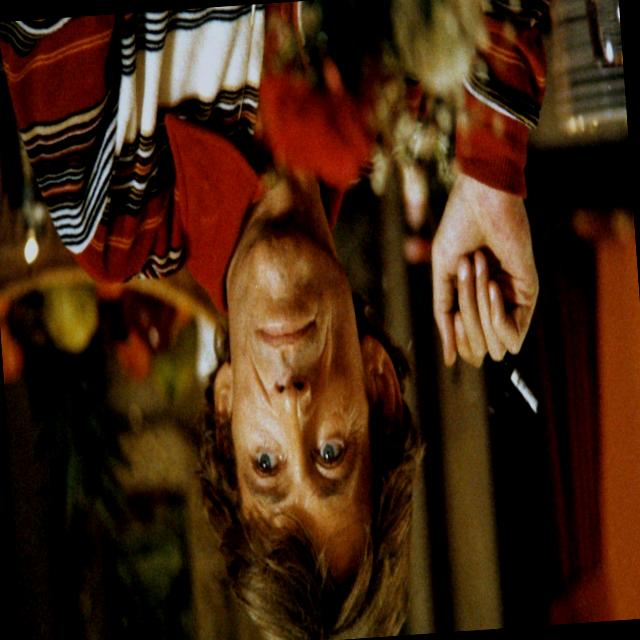cigarette: (461, 330, 544, 432)
